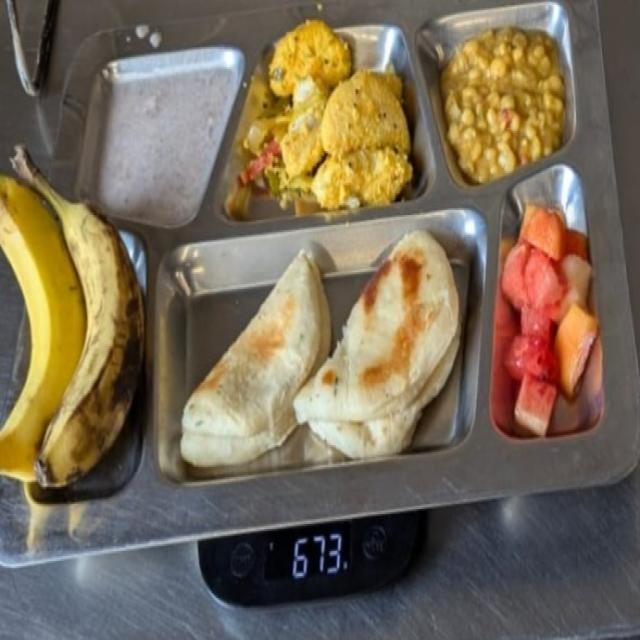Banana: (1, 176, 148, 494)
Bread: (178, 234, 467, 469)
Dal: (440, 17, 578, 180)
Idli: (239, 15, 419, 212)
Mix Fruit: (502, 198, 607, 450)
Porridge: (102, 64, 238, 233)
